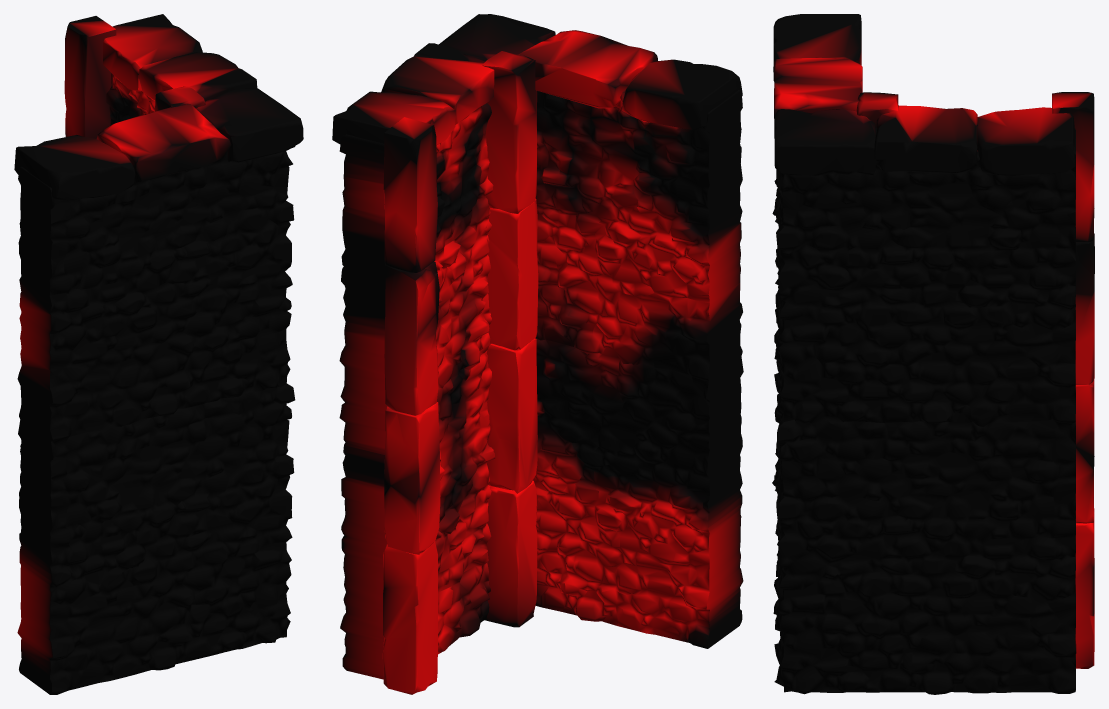
The model's file is SM_DockWall_InsideCorner_01.fbx.
3 views of the same model, side by side, from view 1: azimuth 30°, elevation 25°; view 2: azimuth 150°, elevation 25°; view 3: azimuth 270°, elevation 25° (orthographic). The views are drawn at different scales.
Parts seen in each view (by area): view 1: SM_DockWall_InsideCorner_01_LOD0; view 2: SM_DockWall_InsideCorner_01_LOD0; view 3: SM_DockWall_InsideCorner_01_LOD0.
Boxes of the visible parts, x1,y1,x2,y2 form: SM_DockWall_InsideCorner_01_LOD0: (14, 14, 303, 694); SM_DockWall_InsideCorner_01_LOD0: (332, 14, 743, 694); SM_DockWall_InsideCorner_01_LOD0: (772, 14, 1094, 694).
Bounding box in the file's own units: 415 × 433 × 835.
